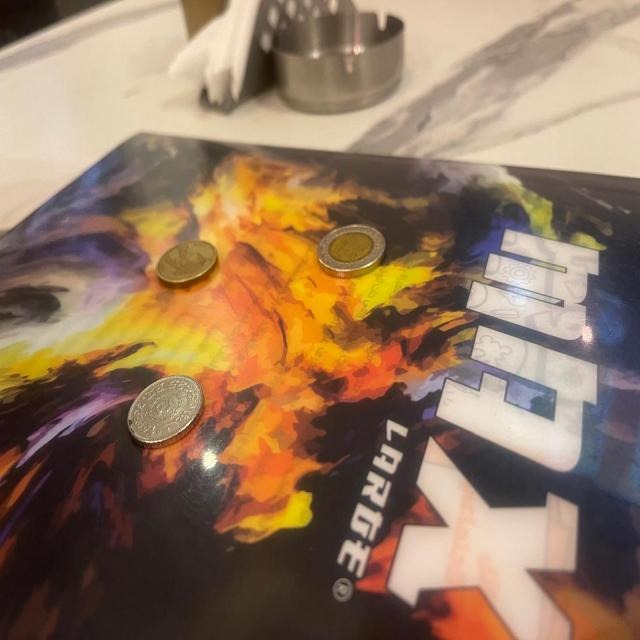Half Pound: (151, 226, 224, 296)
One Pound: (312, 212, 397, 285)
quarter pound: (126, 363, 206, 466)
